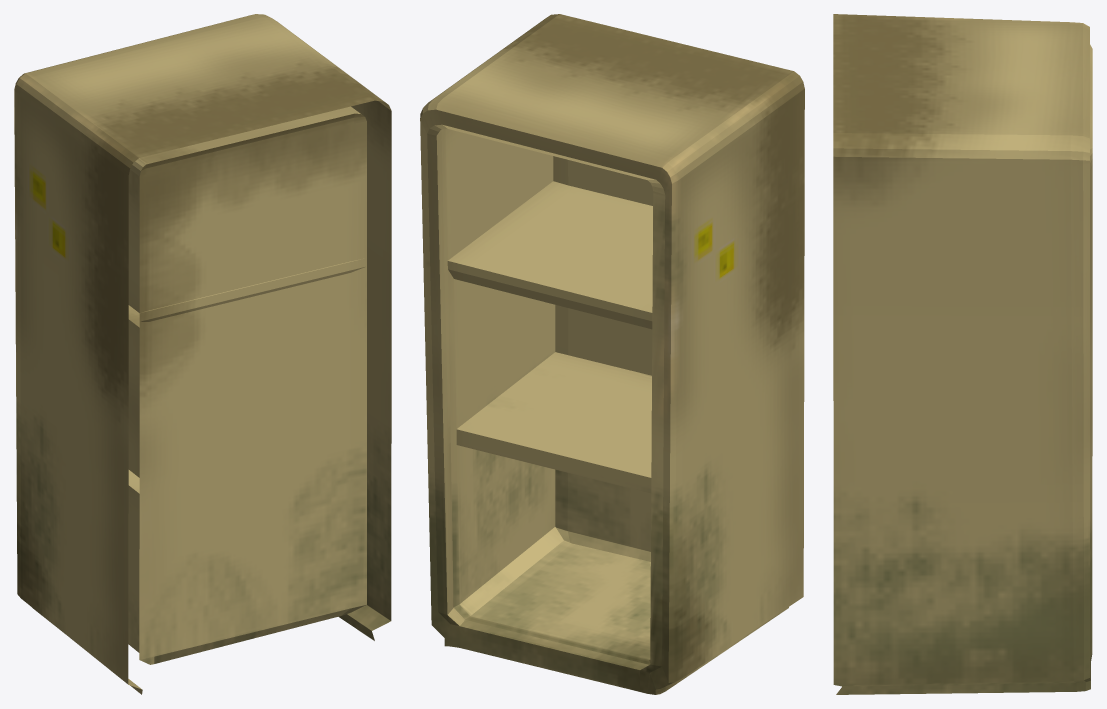
Rendered from Fridge_Body_01.fbx.
3 renders of one model, left to right at view 1: azimuth 30°, elevation 25°; view 2: azimuth 150°, elevation 25°; view 3: azimuth 270°, elevation 25°, orthographic. The views are drawn at different scales.
Visible parts, largest first — view 1: Fridge_01; view 2: Fridge_01; view 3: Fridge_01.
Part boxes in pixels (x1,y1,x2,y2): Fridge_01: (14,14,391,694); Fridge_01: (420,14,804,694); Fridge_01: (833,14,1092,694).
Size of the model in its own units: 9.38 by 18.28 by 7.66.
